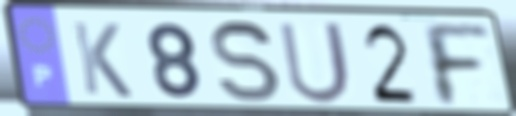2: (360, 22, 421, 106)
8: (145, 20, 205, 102)
F: (416, 20, 495, 109)
K: (69, 19, 136, 101)
S: (208, 18, 284, 106)
U: (275, 19, 355, 107)
